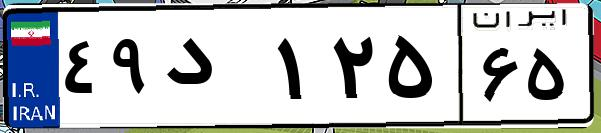1: (270, 28, 330, 110)
2: (330, 28, 385, 110)
4: (57, 26, 110, 100)
5: (385, 28, 445, 110), (525, 38, 570, 115)
6: (475, 38, 525, 113)
9: (110, 28, 158, 98)
د: (158, 20, 270, 120)
